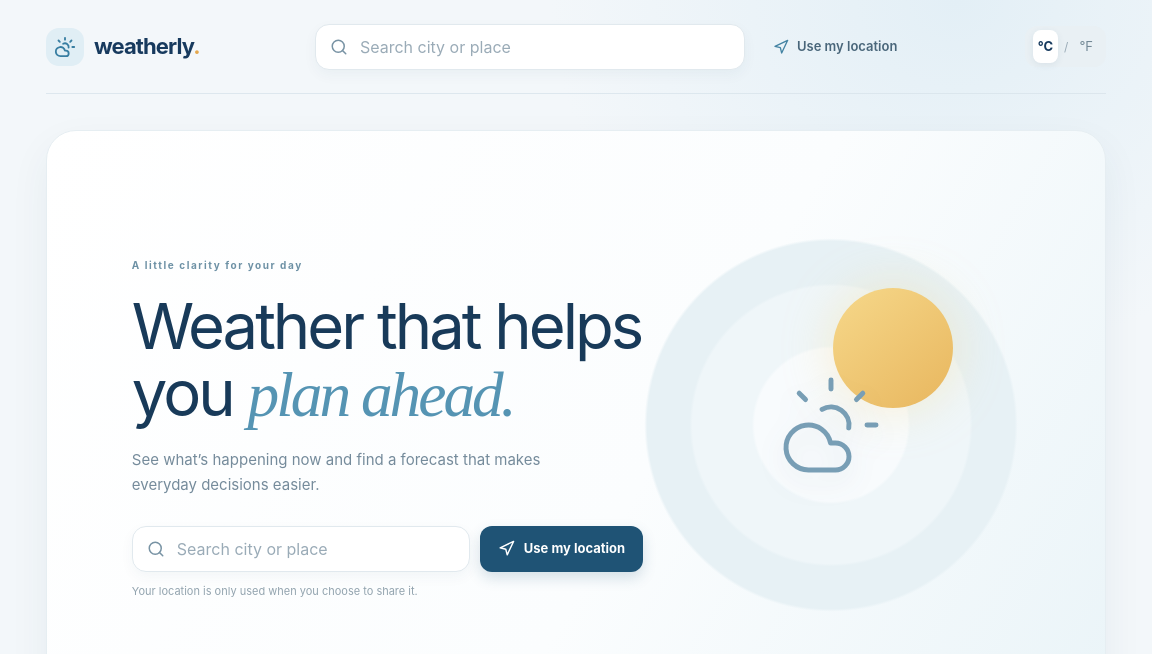
Test: Weatherly first-use and search flow › loads live weather after a city is selected and unit changes do not refetch
This screenshot has width=1152, height=654.
Type "Noida" into the field named "Search for a city".
click(530, 46); type("Noida")  # box [315,24,745,70]
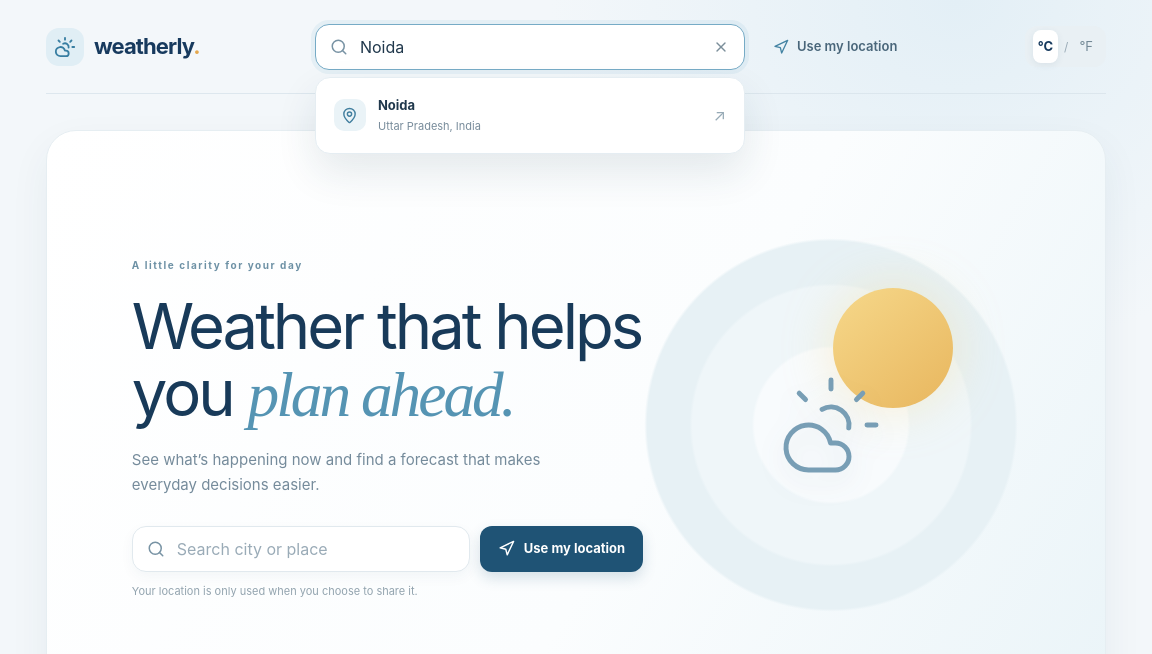
Click the option "Noida Uttar Pradesh, India ↗".
click(350, 115)  # box [323,84,737,146]
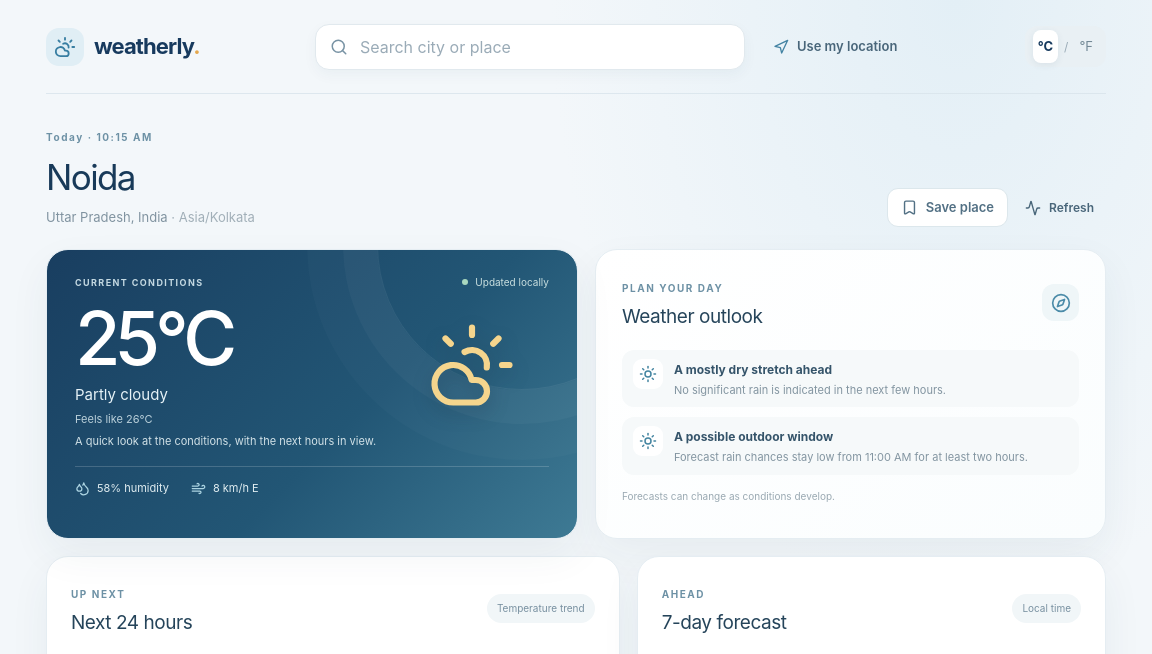
expect the heading "Weather outlook" is shown: met, box [622,303,762,332]
expect the text "25°C" is shown: met, box [75,302,232,374]
Click the button "°F".
click(1086, 47)  # box [1074,30,1098,63]
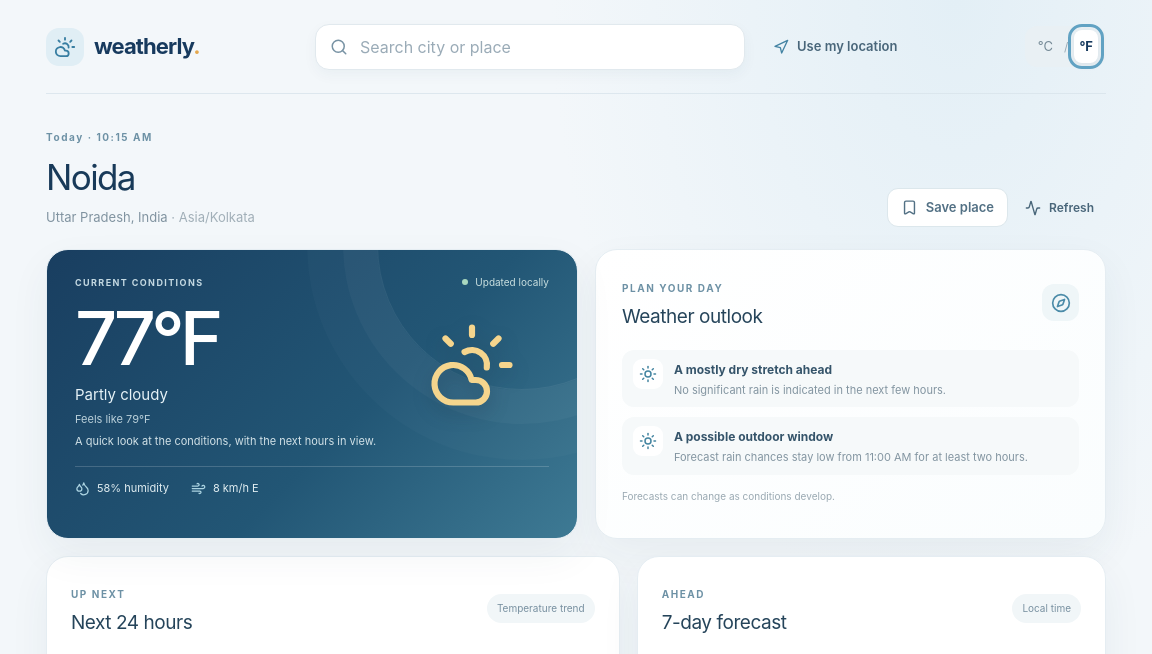
expect the text "77°F" is shown: met, box [75,302,218,374]
